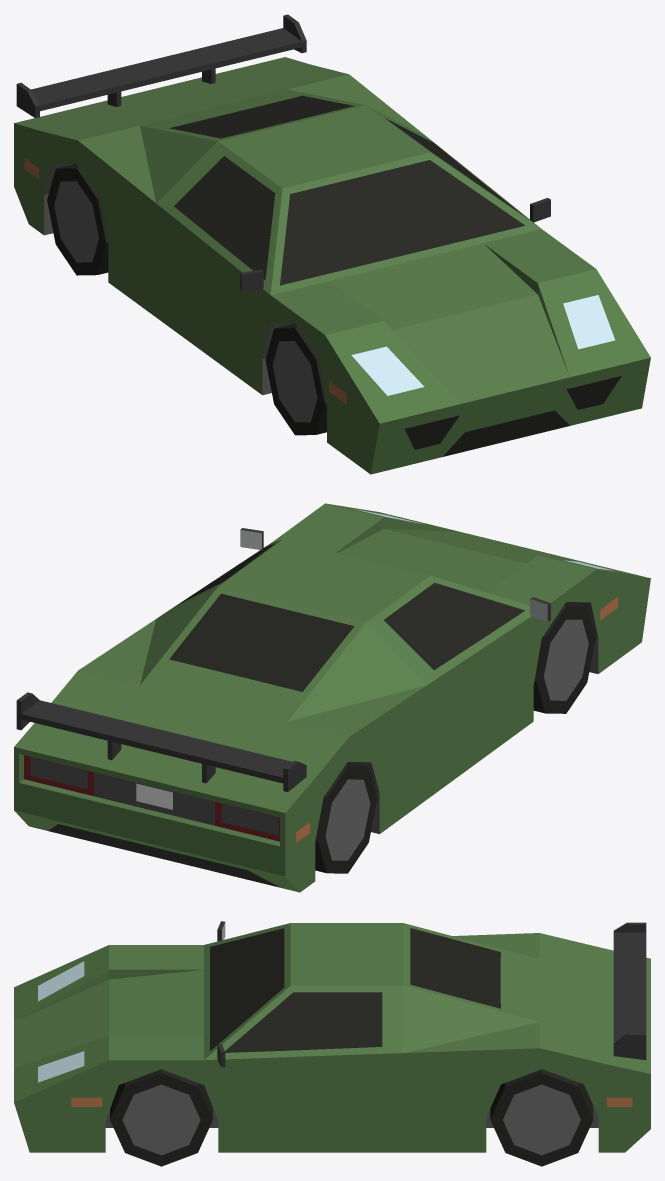
The model's file is Veh_Sports_Car_03_Green.glb.
3 views of the same model, one above another, from view 1: azimuth 30°, elevation 25°; view 2: azimuth 150°, elevation 25°; view 3: azimuth 270°, elevation 25° (orthographic). The views are drawn at different scales.
Parts seen in each view (by area): view 1: Sports_Car_03_Green, Wheel_RR, Wheel_FR; view 2: Sports_Car_03_Green, Wheel_RR, Wheel_FR; view 3: Sports_Car_03_Green, Wheel_RL, Wheel_FL.
Part boxes in pixels (x1,y1,x2,y2): Sports_Car_03_Green: [14, 14, 650, 474]; Wheel_RR: [47, 163, 108, 275]; Wheel_FR: [265, 323, 326, 435]; Sports_Car_03_Green: [14, 503, 650, 892]; Wheel_RR: [315, 762, 377, 873]; Wheel_FR: [533, 602, 595, 713]; Sports_Car_03_Green: [14, 921, 650, 1152]; Wheel_RL: [490, 1069, 593, 1166]; Wheel_FL: [110, 1069, 212, 1166].
Bounding box in the file's own units: 1.25 × 0.6867 × 2.56.
1 material, 1 textured.
